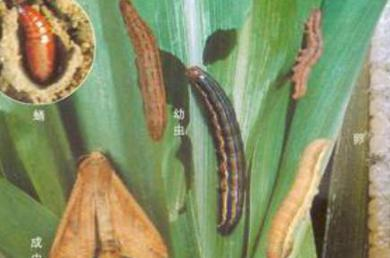larva: (172, 62, 256, 237), (112, 3, 178, 153), (262, 131, 333, 258), (289, 4, 326, 104)
moth: (44, 139, 173, 258)
pupa: (15, 4, 62, 87)
